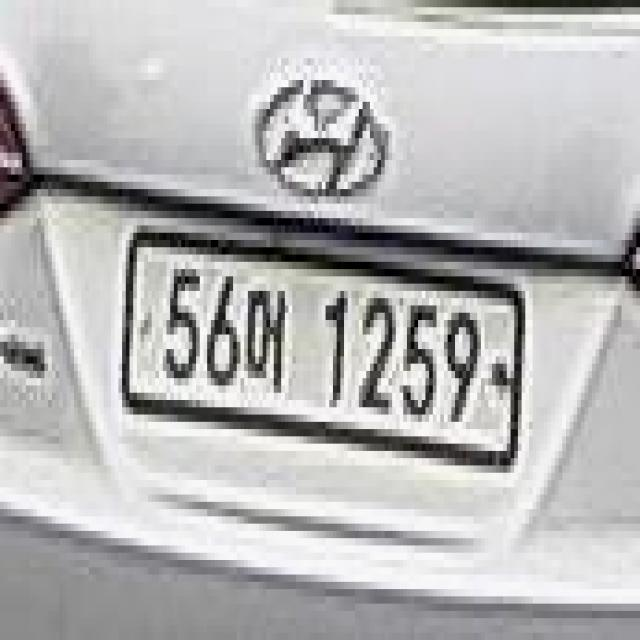illegal_plate: (122, 225, 523, 486)
